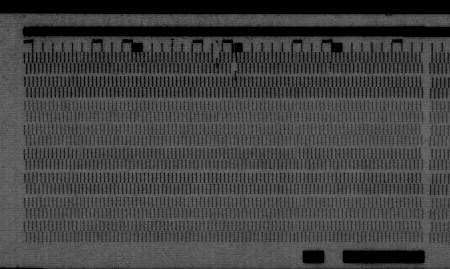Oblique printing: (229, 62, 242, 80), (211, 51, 222, 70), (324, 63, 337, 77), (230, 52, 242, 65)
